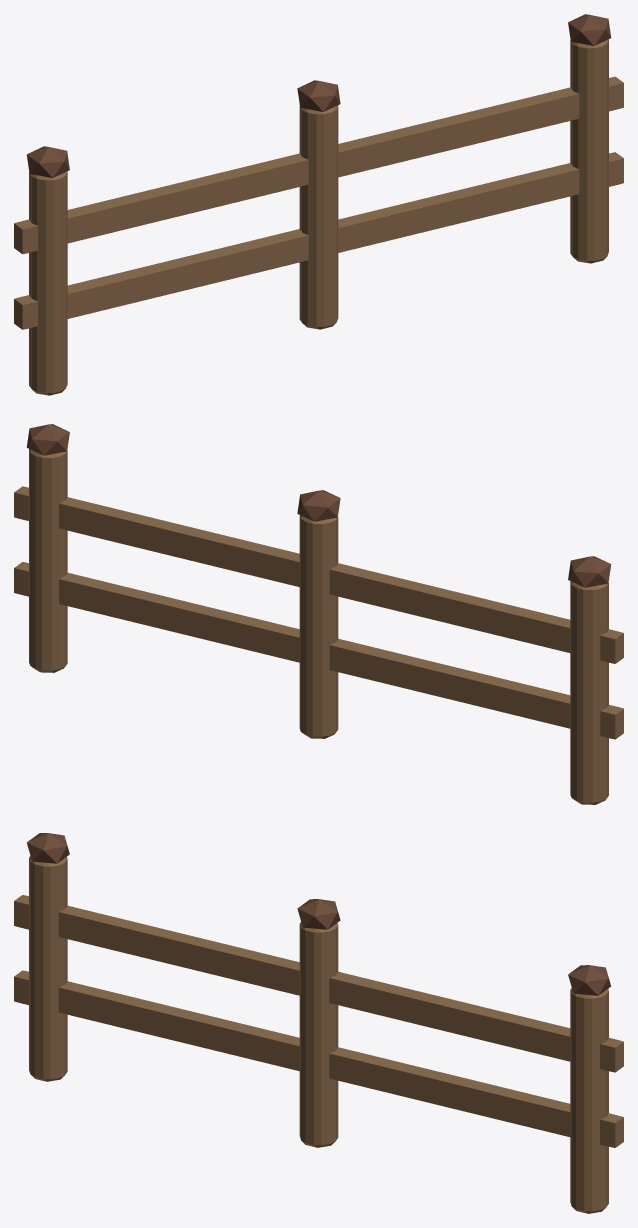
Rendered from fence.glb.
The picture shows the model from 3 angles, top to bottom: view 1: azimuth 30°, elevation 25°; view 2: azimuth 150°, elevation 25°; view 3: azimuth 330°, elevation 25°; orthographic projection.
Visible parts, largest first — view 1: f_rail1, f_rail2, f_post1, f_post2, f_post0, f_cap2, f_cap0, f_cap1; view 2: f_rail1, f_rail2, f_post1, f_post0, f_post2, f_cap2, f_cap0, f_cap1; view 3: f_rail2, f_rail1, f_post1, f_post2, f_post0, f_cap1, f_cap0, f_cap2.
Part boxes in pixels (box(x1,y1,x2,y2)): f_rail1: box(14, 76, 623, 254); f_rail2: box(14, 152, 623, 329); f_post1: box(299, 105, 338, 329); f_post2: box(570, 39, 608, 263); f_post0: box(29, 171, 67, 395); f_cap2: box(568, 14, 611, 45); f_cap0: box(26, 146, 69, 177); f_cap1: box(297, 80, 340, 111); f_rail1: box(14, 486, 623, 663); f_rail2: box(14, 562, 623, 739); f_post1: box(299, 515, 338, 738); f_post0: box(570, 581, 608, 804); f_post2: box(29, 449, 67, 672); f_cap2: box(26, 424, 69, 455); f_cap0: box(568, 556, 611, 587); f_cap1: box(297, 490, 340, 521); f_rail2: box(14, 970, 623, 1147); f_rail1: box(14, 895, 623, 1072); f_post1: box(299, 922, 338, 1147); f_post2: box(570, 988, 608, 1213); f_post0: box(29, 856, 67, 1081); f_cap1: box(297, 899, 340, 929); f_cap0: box(26, 833, 69, 863); f_cap2: box(568, 965, 611, 995).
Bounding box in the file's own units: 2 × 0.769 × 0.1191.
